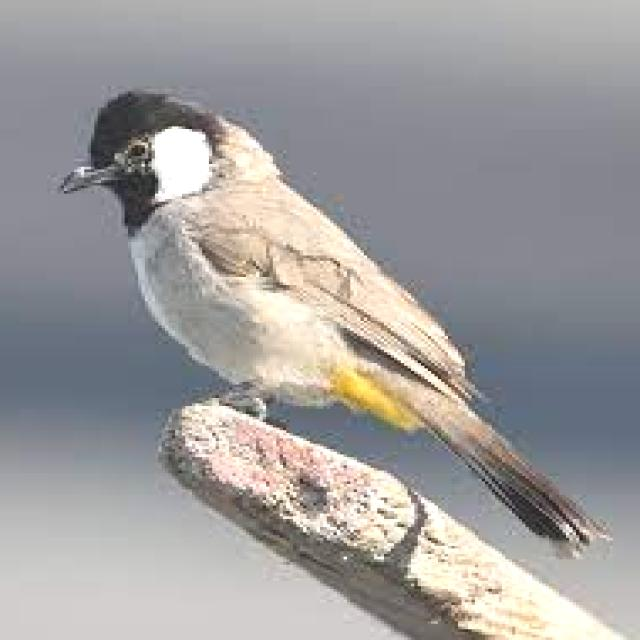bird: (45, 63, 607, 567)
